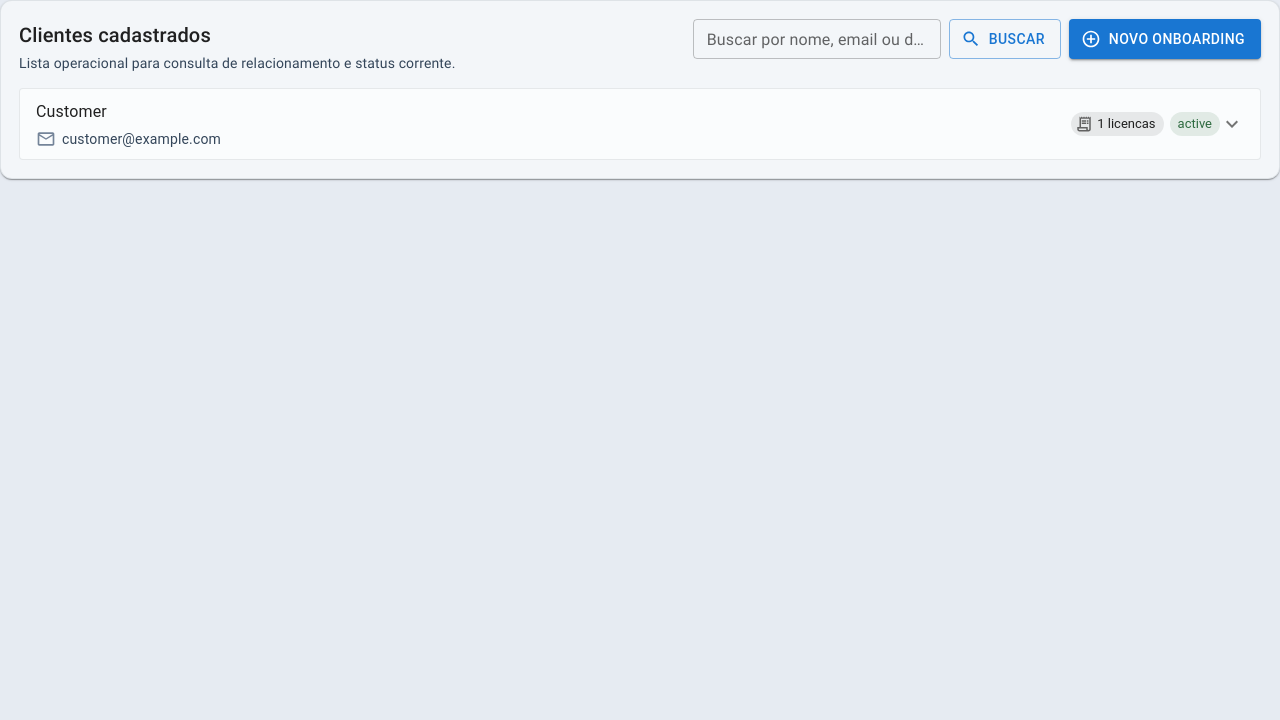
Test: CustomersPanel › creates customer only when Sem Plano is selected
The image size is (1280, 720).
Click the button "Novo onboarding" at (1165, 39), box [1069,19,1261,59]
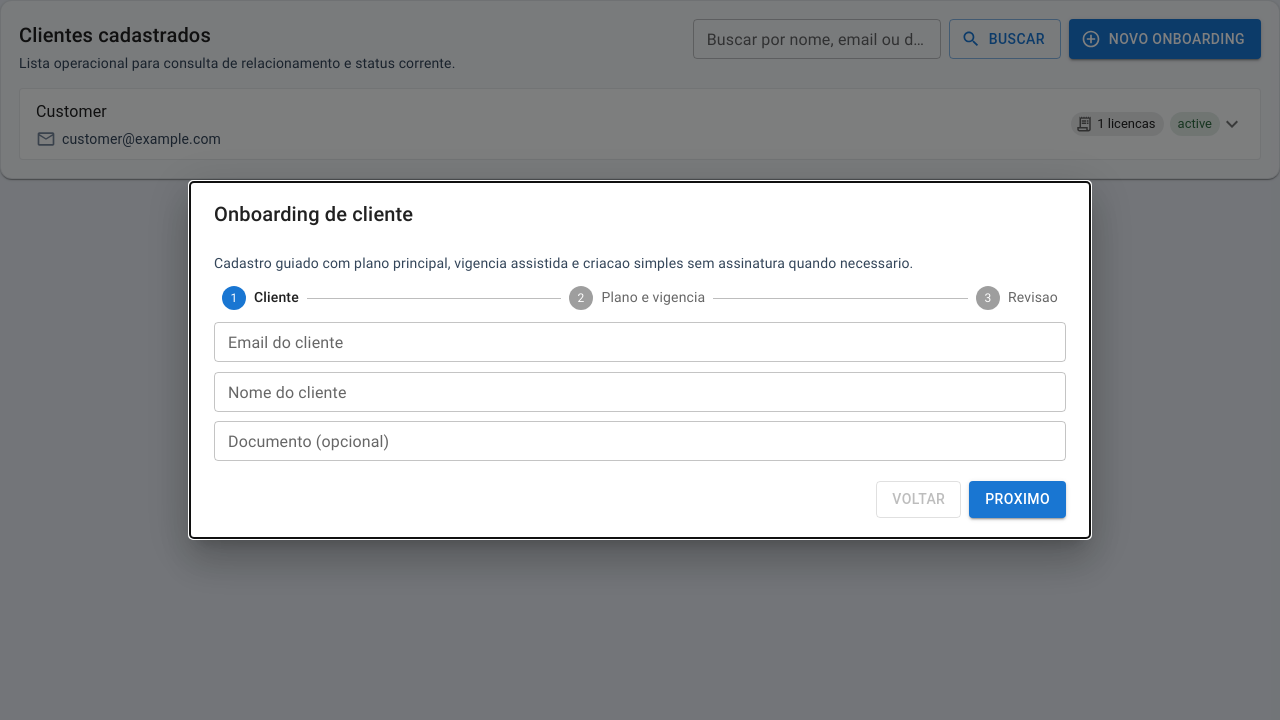
Type "sem-plano@example.com" into the field labelled "Email do cliente" at (640, 342), box [214,322,1066,362]
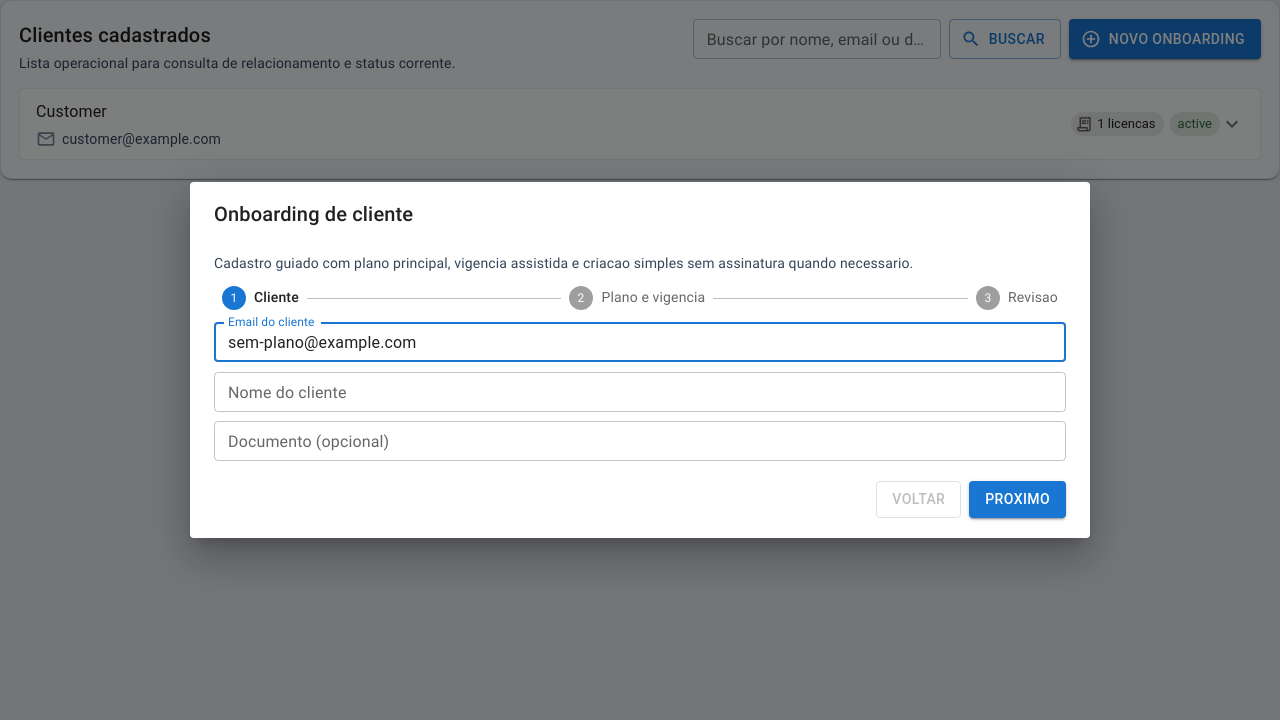
Type "Cliente Sem Plano" into the field labelled "Nome do cliente" at (640, 392), box [214,372,1066,412]
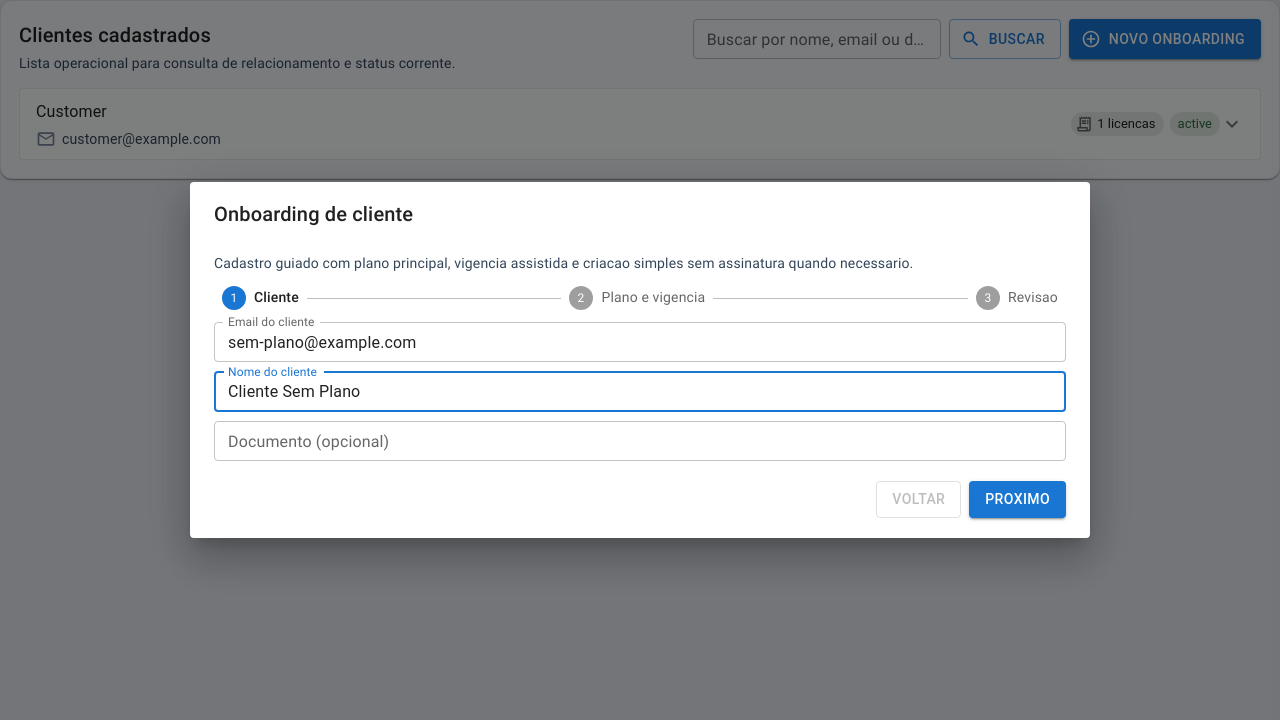
Click the button "Proximo" at (1018, 500), box [969,481,1066,518]
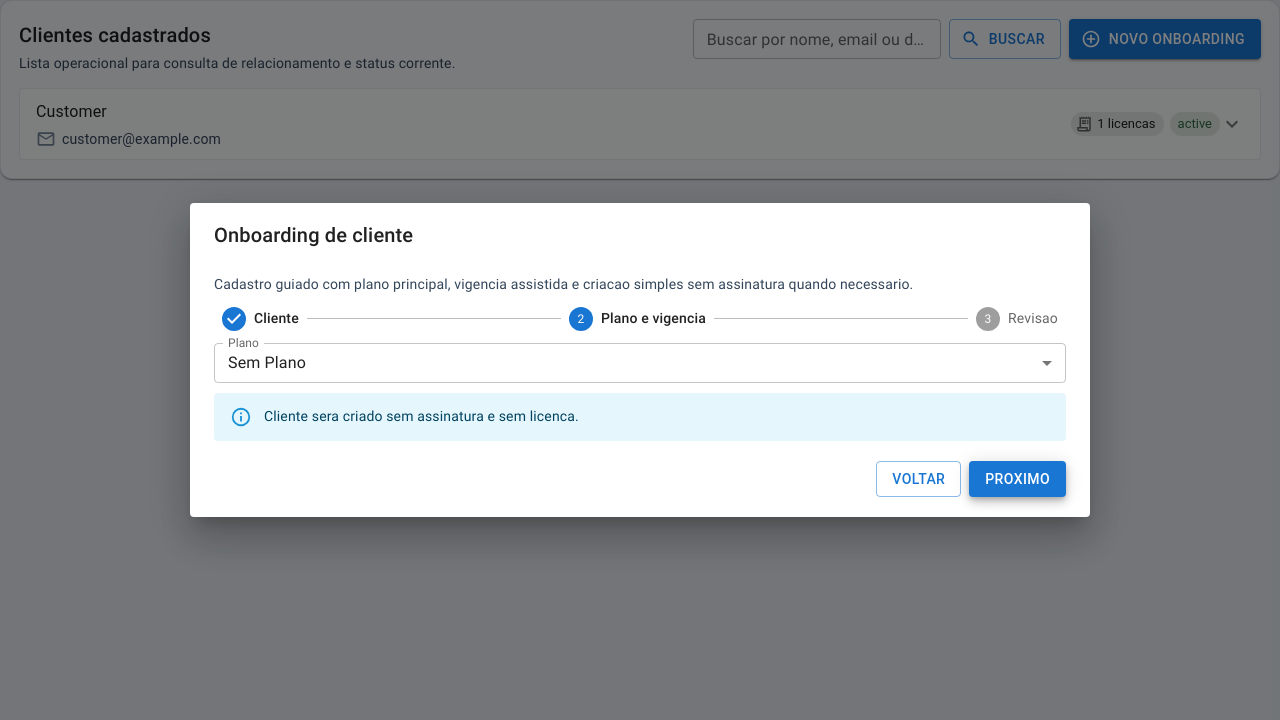
Click the button "Proximo" at (1018, 479), box [969,461,1066,497]
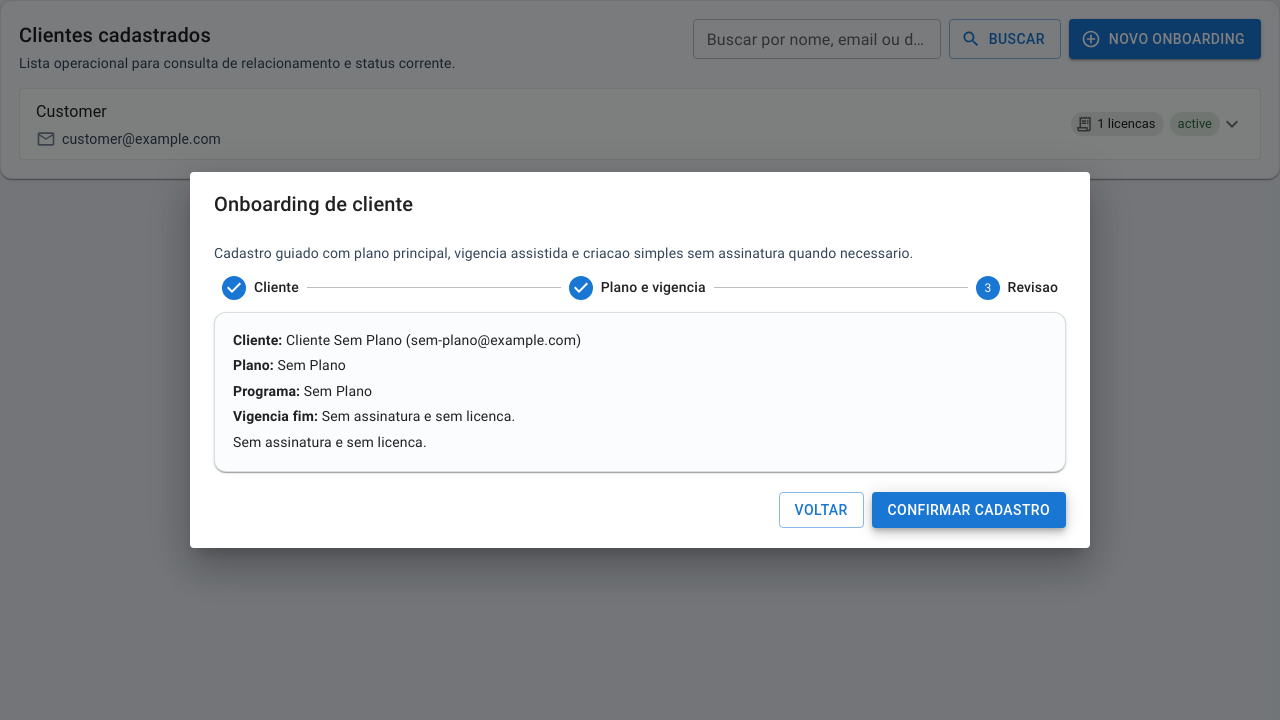
Click the button "Confirmar cadastro" at (969, 510), box [872,492,1066,528]
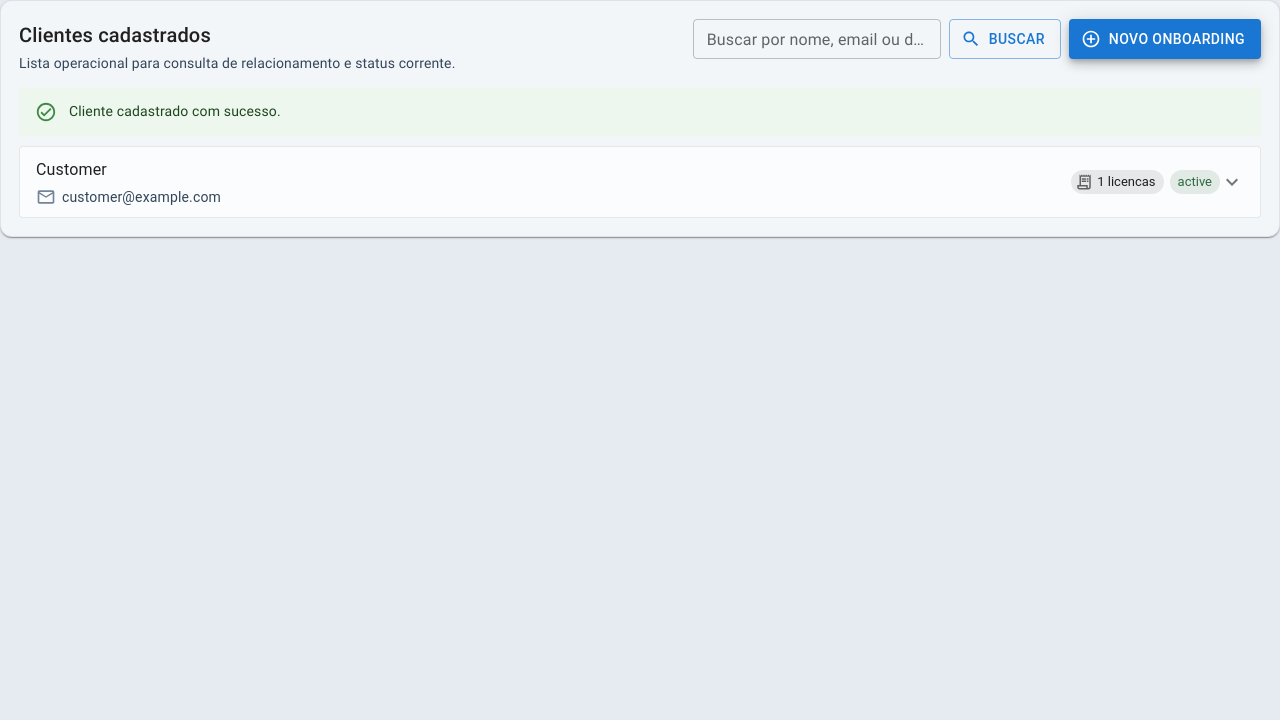
Expected: the text "Cliente cadastrado com sucesso." is shown, [69,104,281,120]
